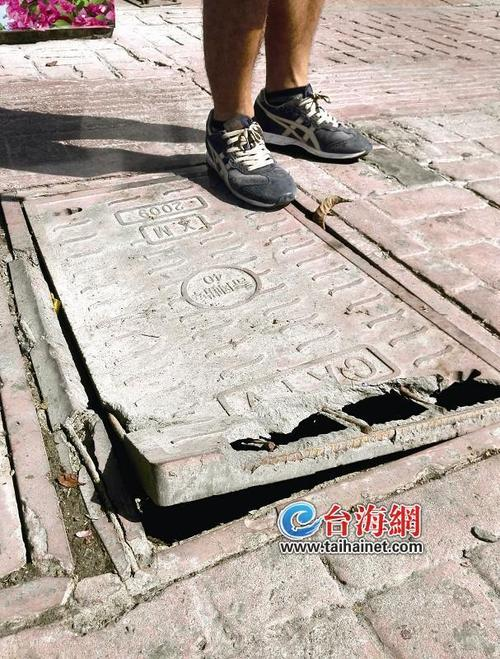broke: (18, 176, 500, 565)
